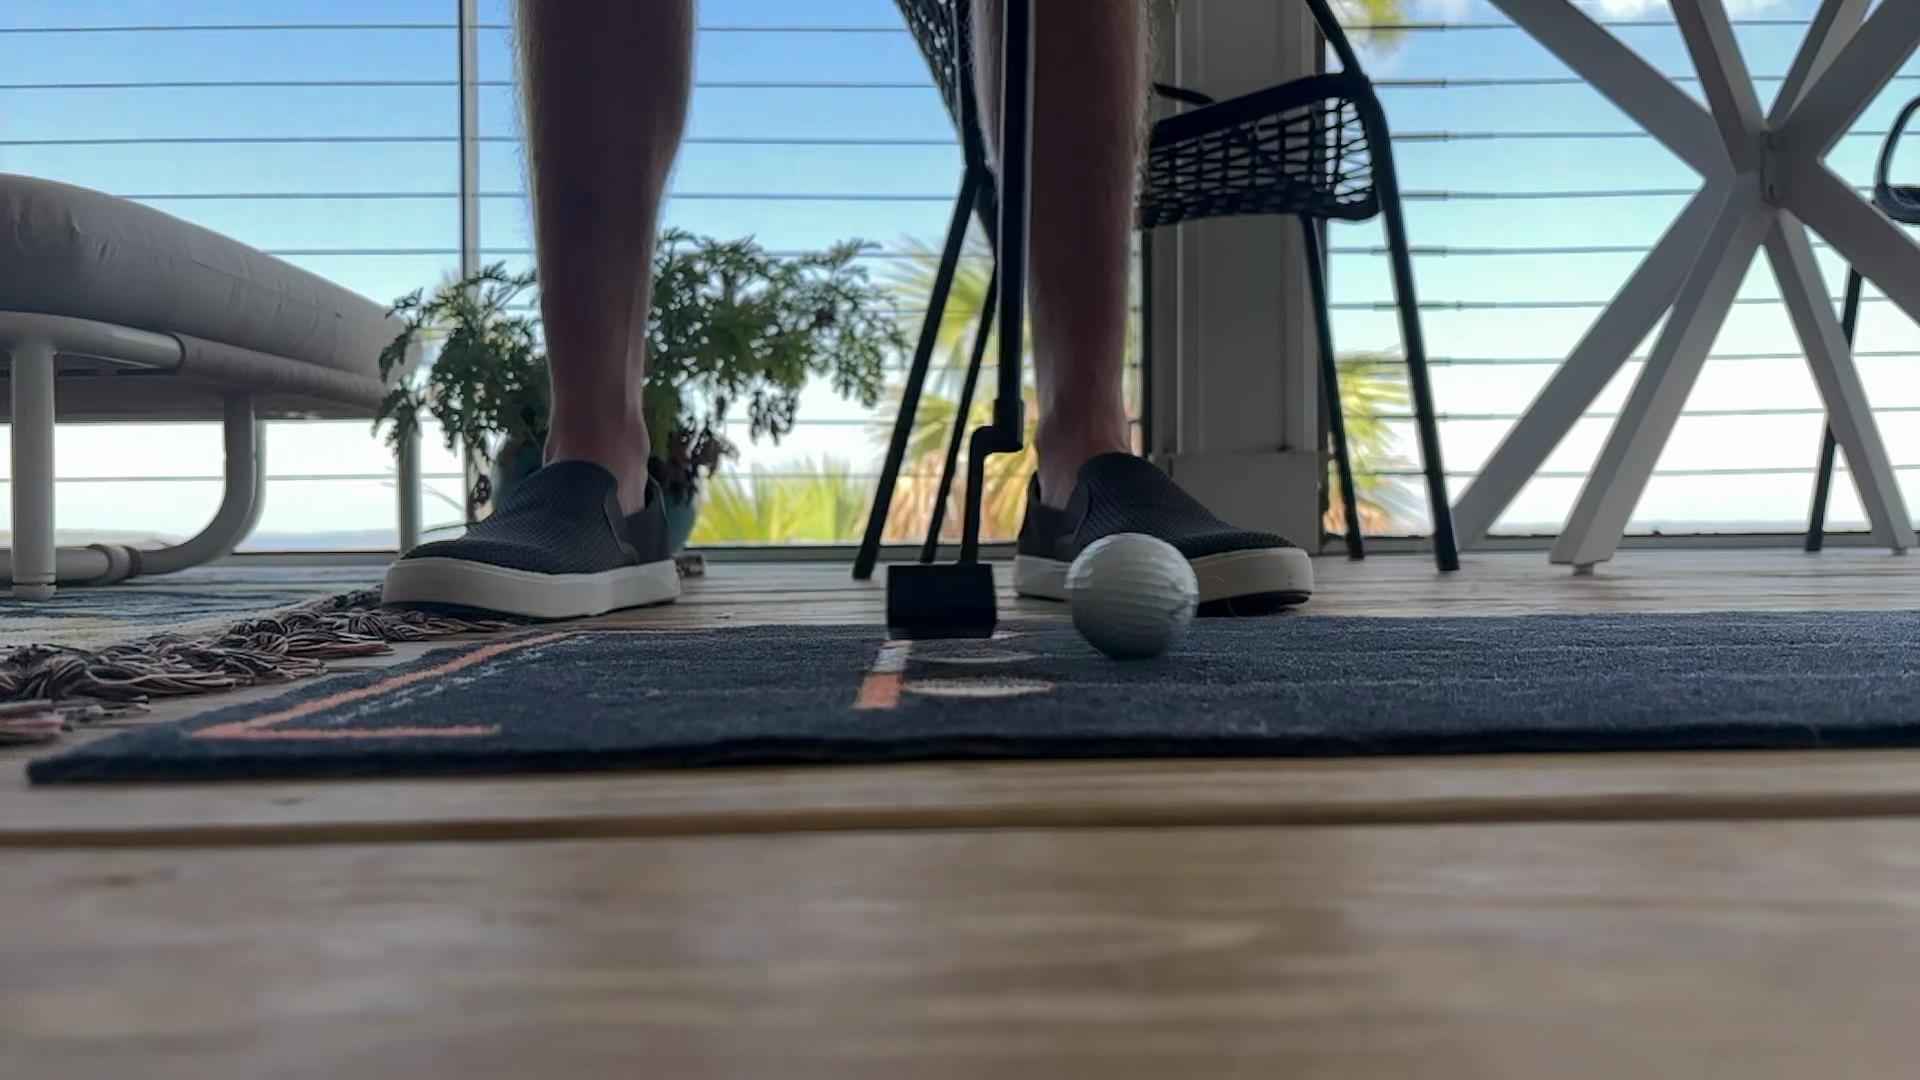golfball: (1063, 531, 1200, 660)
